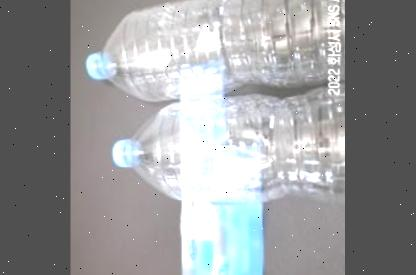Plastic Bottle: (112, 87, 345, 199), (88, 0, 345, 100)
